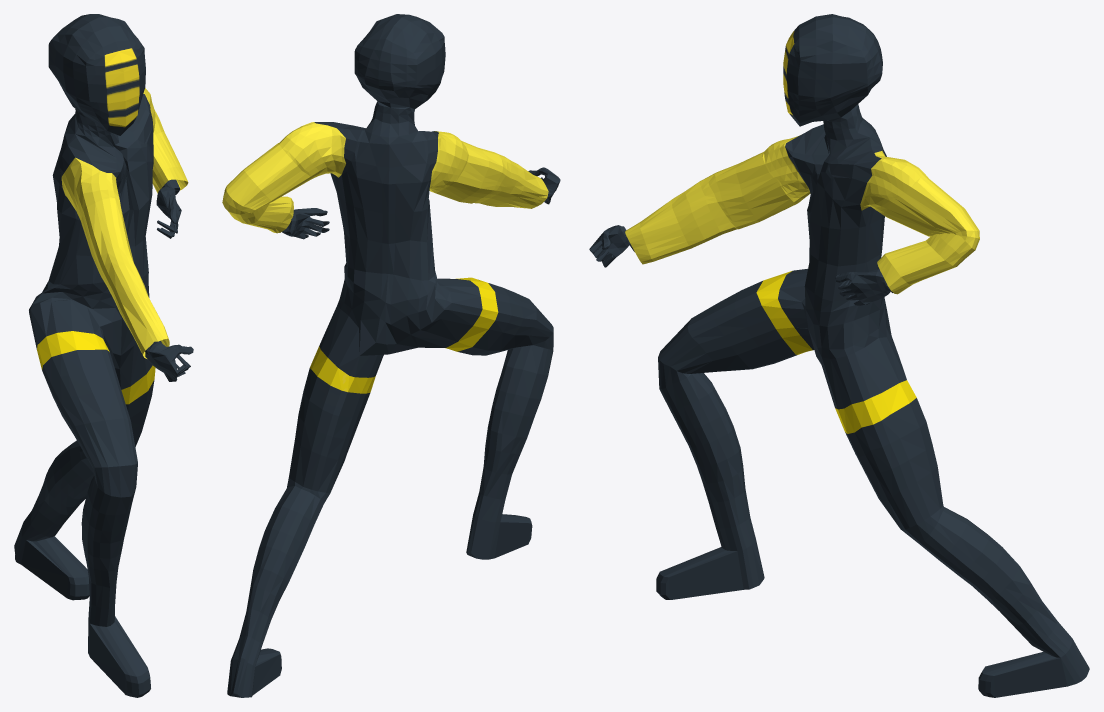
The model's file is Sentry_WR_000005.obj.
The picture shows the model from 3 angles, left to right: view 1: azimuth 30°, elevation 25°; view 2: azimuth 150°, elevation 25°; view 3: azimuth 270°, elevation 25°; orthographic projection. The views are drawn at different scales.
Visible parts, largest first — view 1: Cube; view 2: Cube; view 3: Cube.
Boxes of the visible parts, x1,y1,x2,y2 form: Cube: [14, 14, 193, 697]; Cube: [222, 14, 560, 697]; Cube: [589, 14, 1089, 697].
Bounding box in the file's own units: 1.2 × 3.62 × 2.54.
